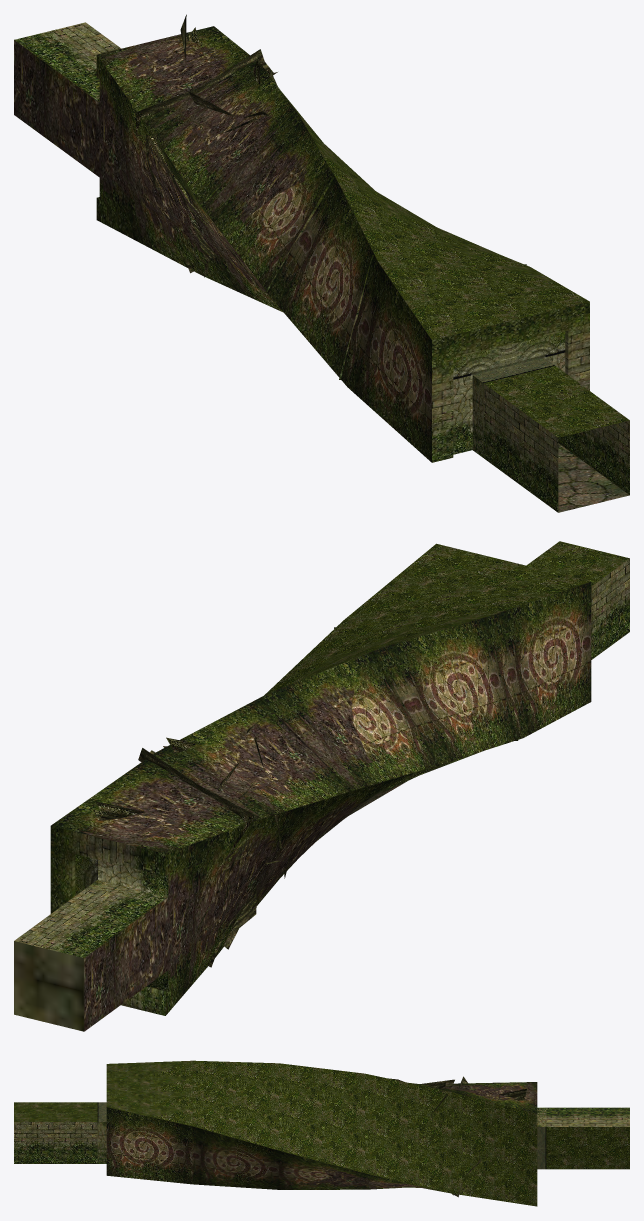
The model's file is twisted_hallway.dae.
The picture shows the model from 3 angles, top to bottom: view 1: azimuth 30°, elevation 25°; view 2: azimuth 150°, elevation 25°; view 3: azimuth 270°, elevation 25°; orthographic projection. The views are drawn at different scales.
Visible parts, largest first — view 1: twisted_hall, roots; view 2: twisted_hall, roots; view 3: twisted_hall, roots.
Part boxes in pixels (x1=…): twisted_hall: x1=14, y1=22, x2=629, y2=512; roots: x1=132, y1=14, x2=277, y2=288; twisted_hall: x1=14, y1=541, x2=629, y2=1031; roots: x1=92, y1=719, x2=304, y2=967; twisted_hall: x1=14, y1=1060, x2=629, y2=1206; roots: x1=388, y1=1076, x2=526, y2=1197.
Size of the model in its own units: 3.43 by 15.95 by 3.4.
Materials: 7 (7 with a texture image).
